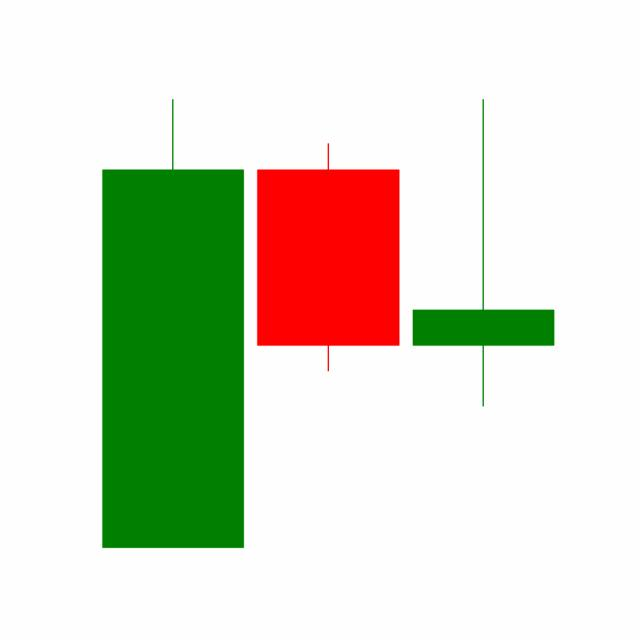Marubozu: (249, 140, 406, 374)
